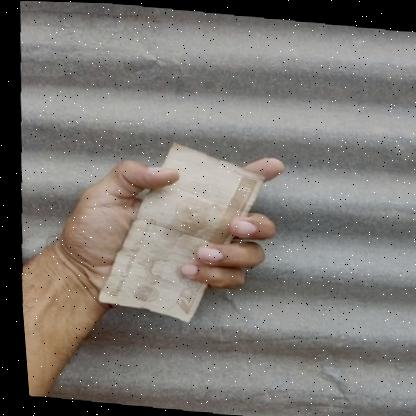five-back-vef: (84, 135, 272, 326)
